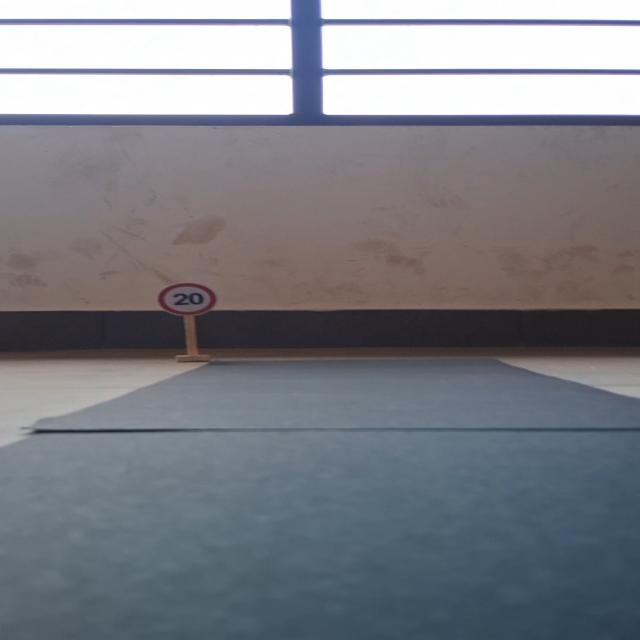Speed20: (154, 281, 222, 318)
